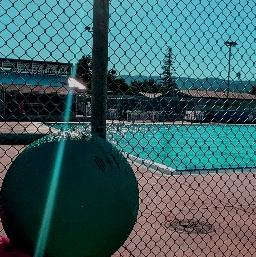algae: (0, 130, 140, 257)
